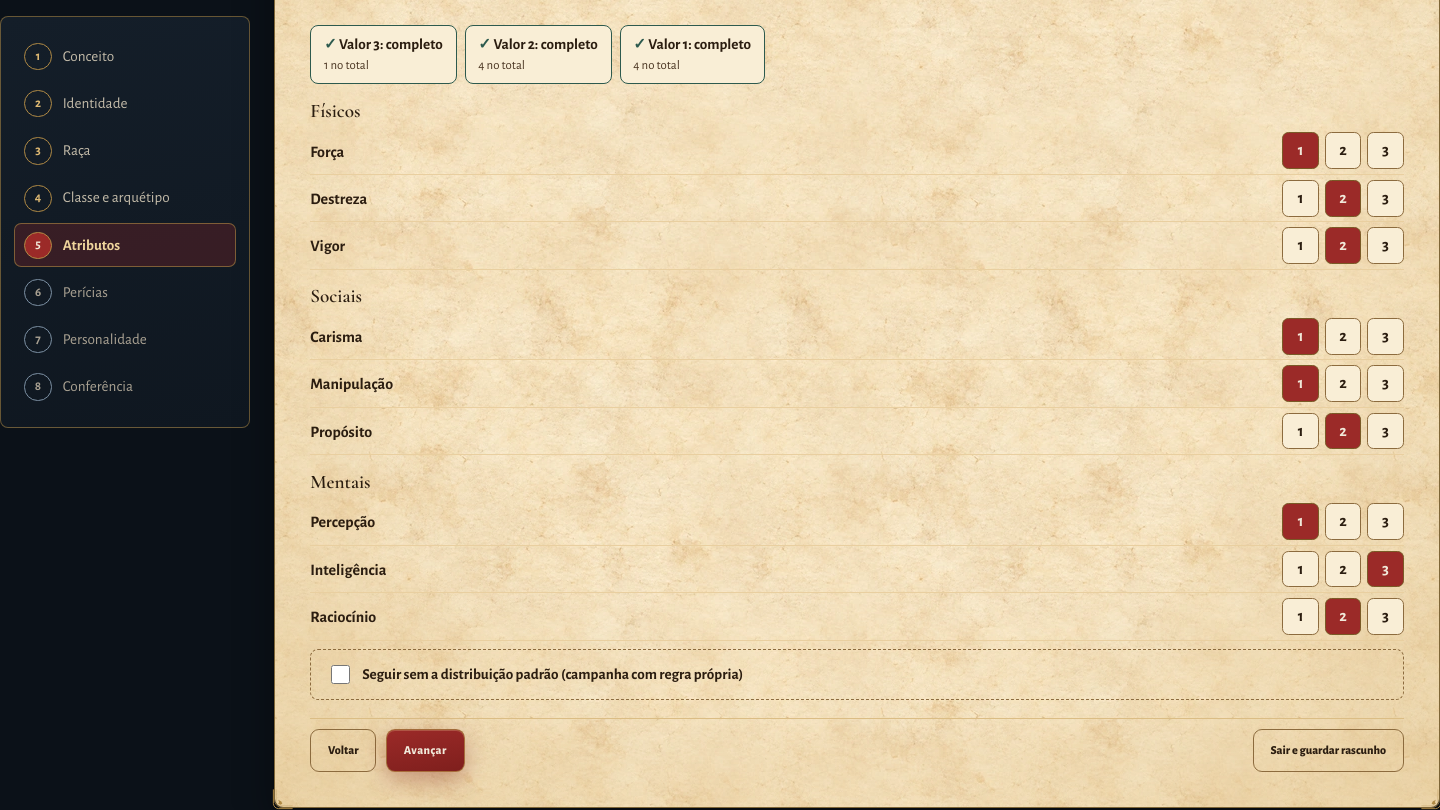
Scenario: assistente de criação: estrutura e navegação (4.3) › voltar sem perder dados e foco no título ao trocar de etapa
(page scrolled)
Check: the element "Força" is shown, box [310,132,1404,169]
Click the button "Voltar" at (343, 750), box [310,729,376,772]
(page scrolled)
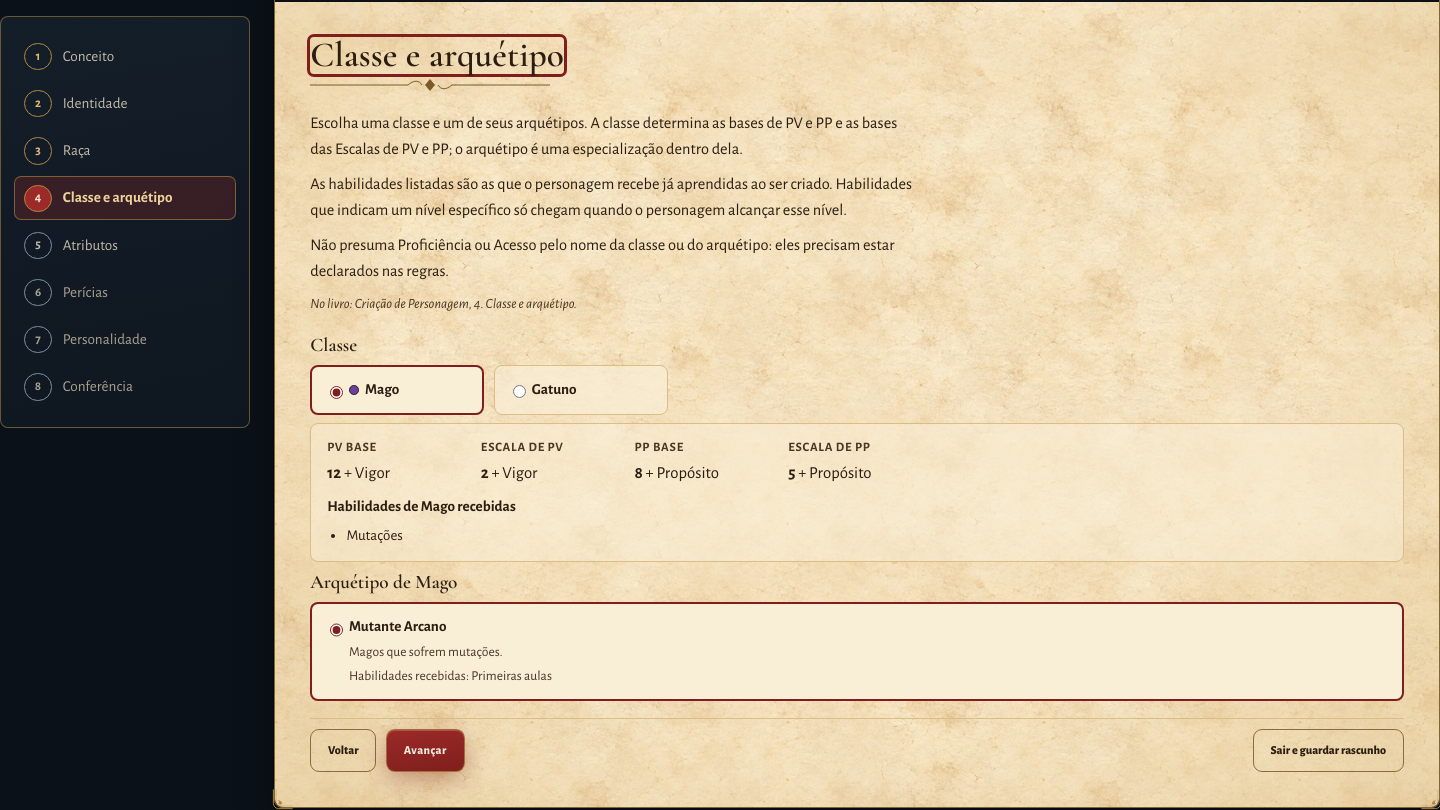
Click the button "Voltar" at (343, 750), box [310,729,376,772]
(page scrolled)
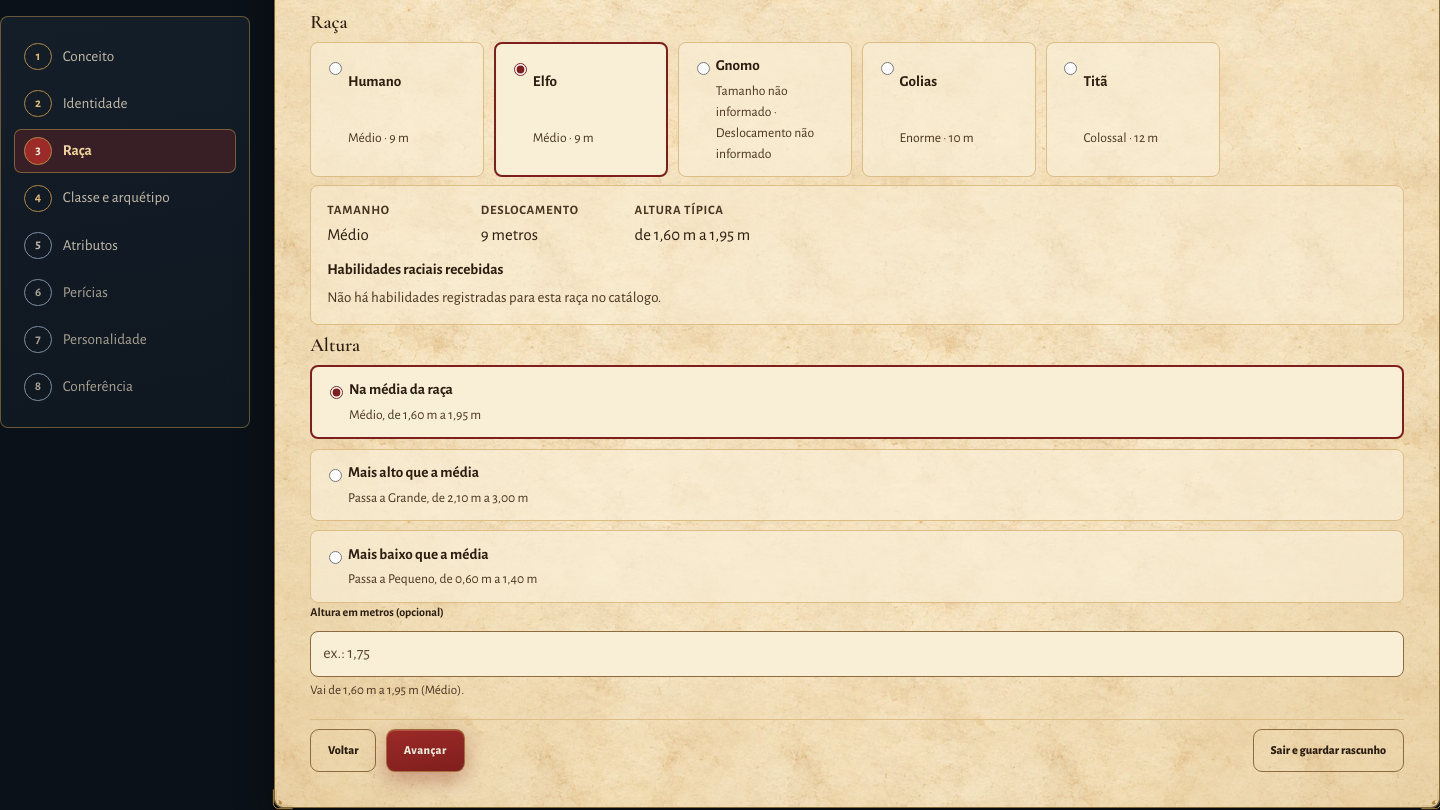
Check: the radio button labelled "Elfo Médio · 9 m" is checked, box [514,61,527,78]
Click the button "Avançar" at (425, 751), box [386,729,465,772]
(page scrolled)
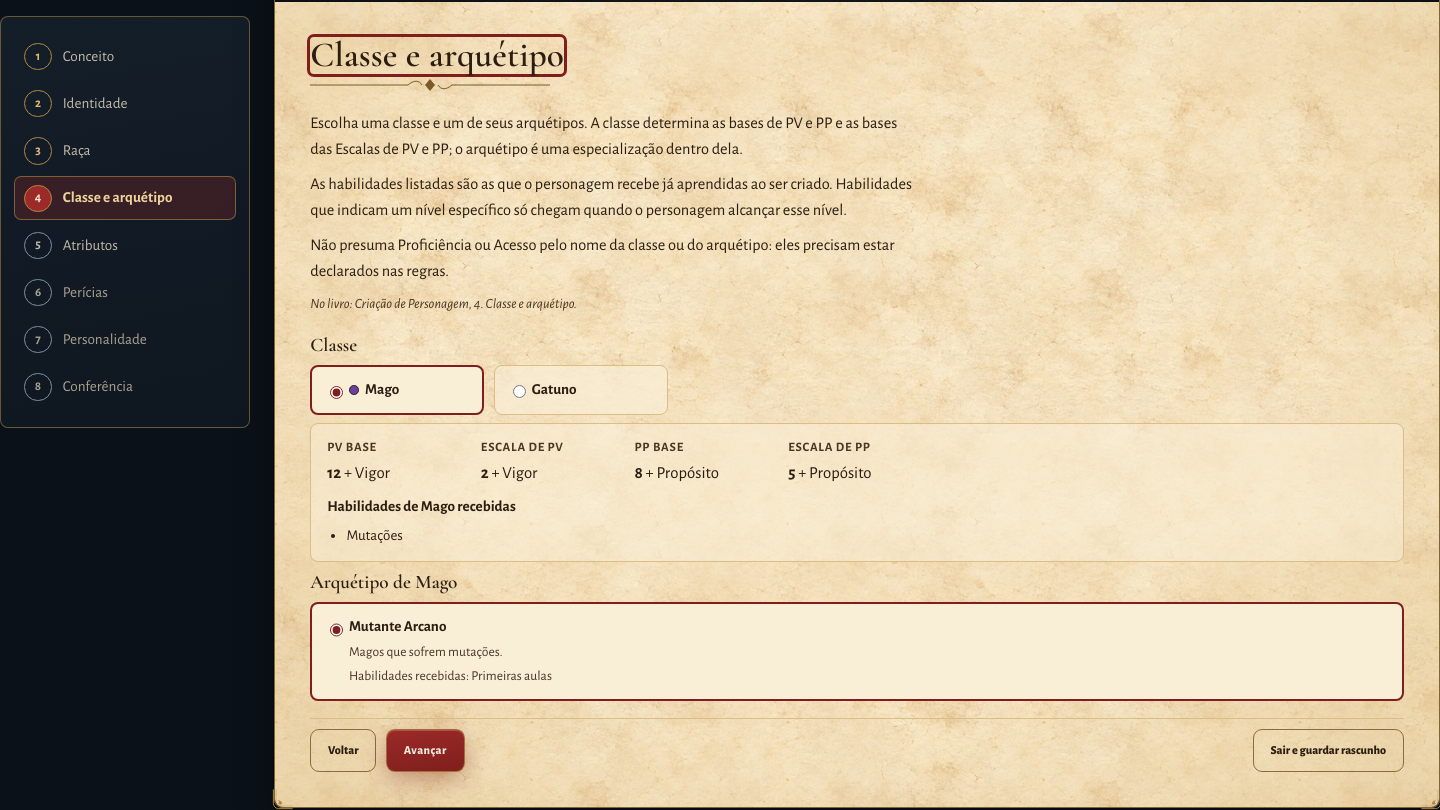
Check: the radio button labelled "Mago" is checked, box [330,384,343,401]
Check: the radio button labelled "Mutante Arcano" is checked, box [330,622,343,638]
